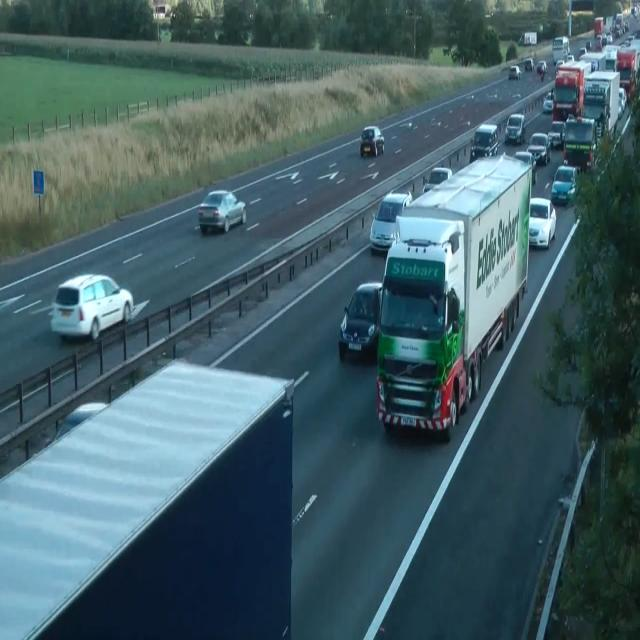bus: (48, 273, 134, 342), (338, 281, 382, 362), (370, 190, 412, 254), (198, 188, 246, 234), (528, 196, 556, 249), (422, 166, 452, 195), (513, 151, 537, 185), (360, 126, 384, 158), (542, 89, 554, 113), (618, 87, 626, 119), (508, 65, 520, 80), (537, 60, 547, 76), (524, 57, 534, 71), (578, 47, 586, 59)
jeep: (563, 114, 597, 172), (550, 163, 578, 206), (470, 123, 498, 161), (526, 132, 550, 164), (505, 112, 525, 145), (552, 35, 570, 65), (547, 120, 565, 148)
minibus: (0, 355, 294, 639), (376, 150, 534, 440), (582, 70, 620, 140), (552, 58, 592, 124), (152, 2, 171, 20), (517, 31, 537, 45)
